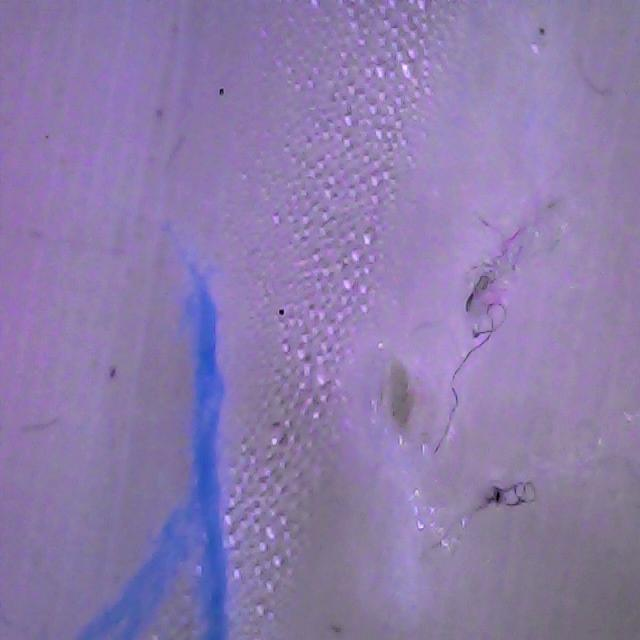fibers: (185, 265, 227, 640), (0, 1, 0, 1)
